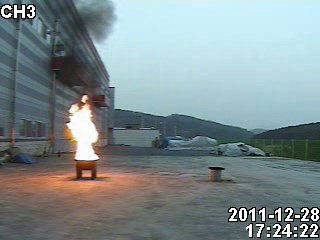fire: (64, 92, 102, 161)
